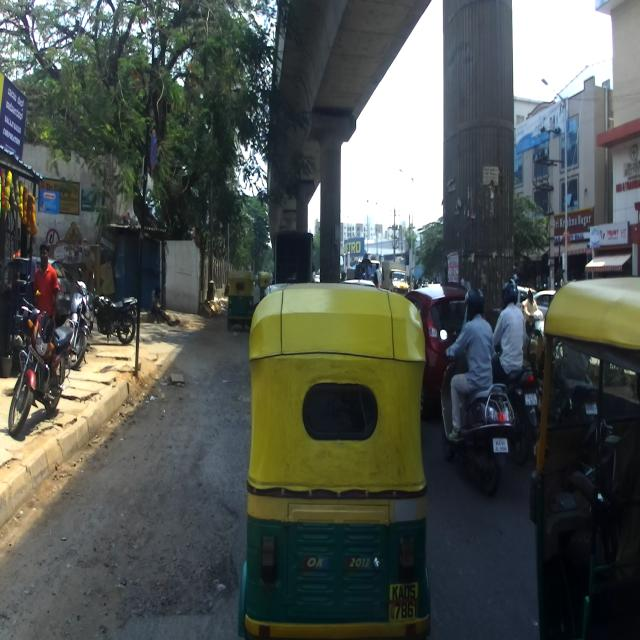auto ahead at: (247, 277, 429, 638)
motorcycle ahead at: (5, 289, 76, 444), (460, 382, 518, 478)
sign board ahead at: (145, 121, 161, 177)
